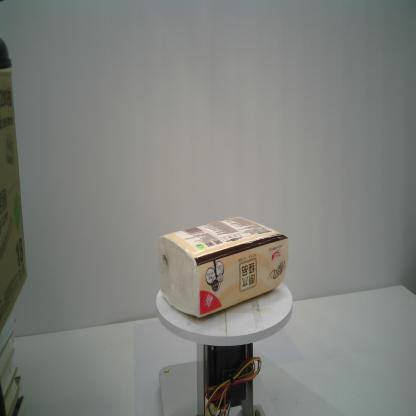Tissue: (158, 216, 289, 320)
